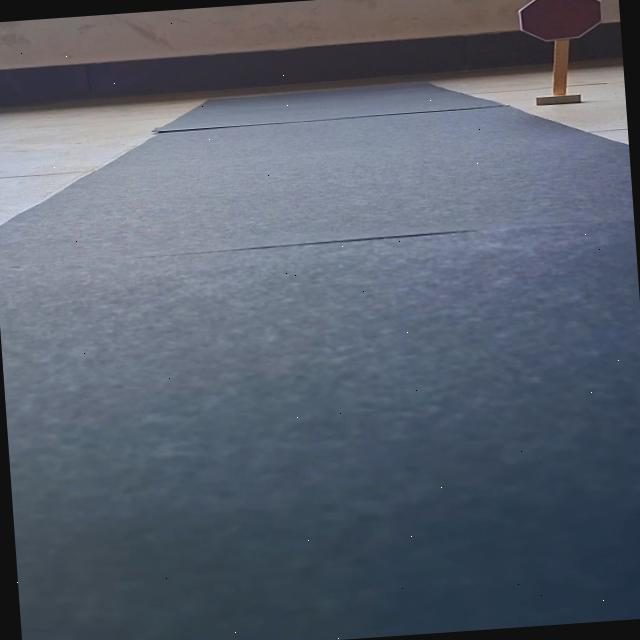Stop: (516, 0, 605, 42)
